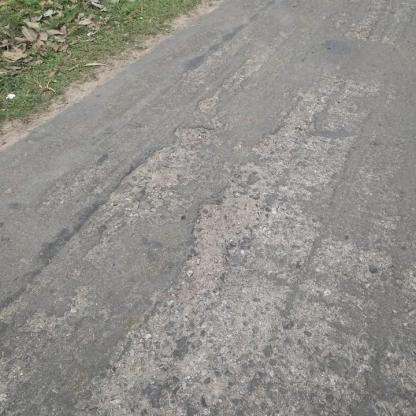pothole: (112, 121, 217, 207), (184, 186, 266, 280)
